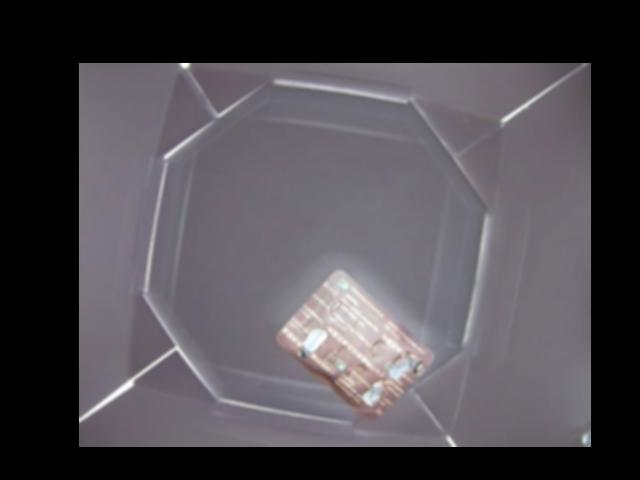Medicine: (274, 267, 432, 422)
